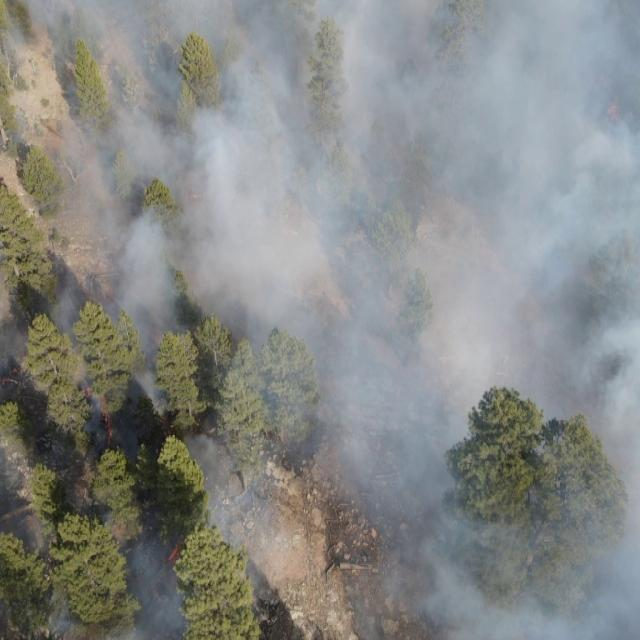fire: (85, 386, 118, 450), (0, 365, 22, 387), (606, 96, 623, 123), (165, 542, 181, 566)
smoke: (0, 0, 640, 640)
